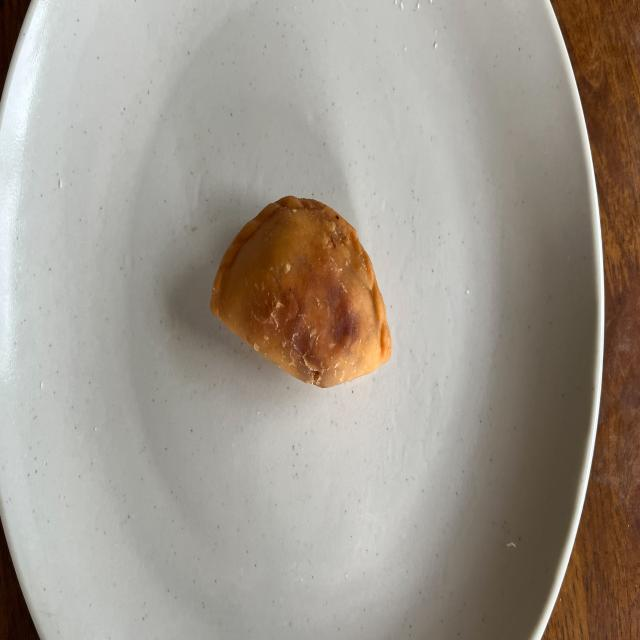karipap: (210, 196, 391, 387)
